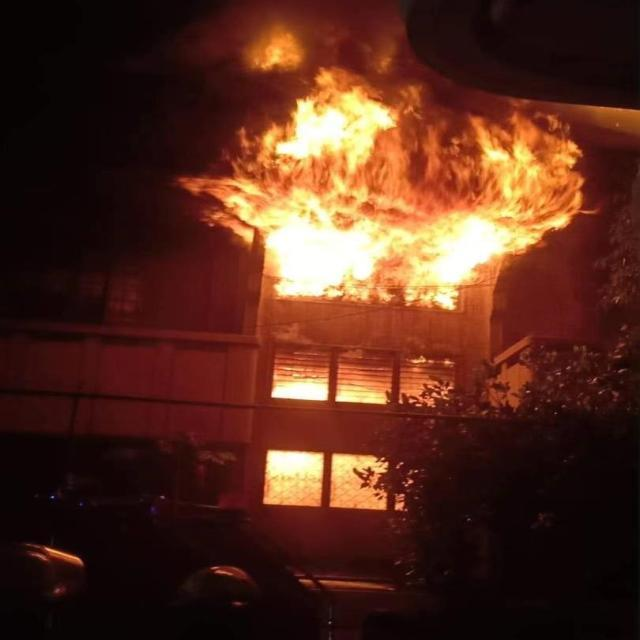Fire: (176, 32, 593, 309)
